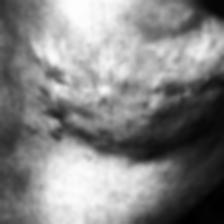Unclassified: (70, 32, 224, 130)
